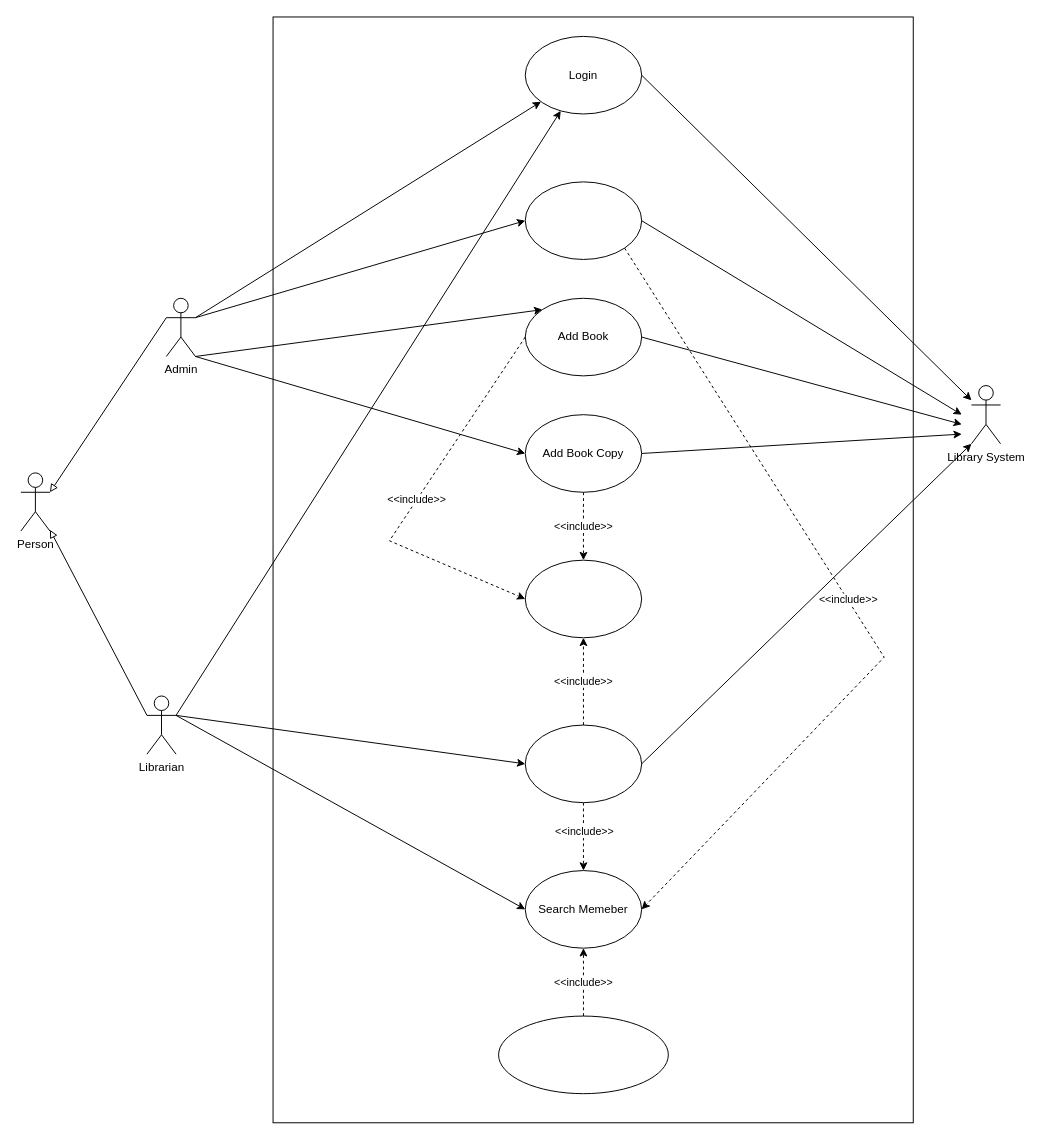
Image size: 1041x1140. Some labels were removed from this diagram. The shapes that lost their labels are listed below. From the top down, each one's box as (x1, y1, x2, y2) in pixels, then its label:
(524, 181, 642, 259): Add Library Memeber
(524, 559, 642, 638): Search Book
(524, 724, 642, 803): Checkout
(498, 1015, 668, 1094): Print Checkout Record
